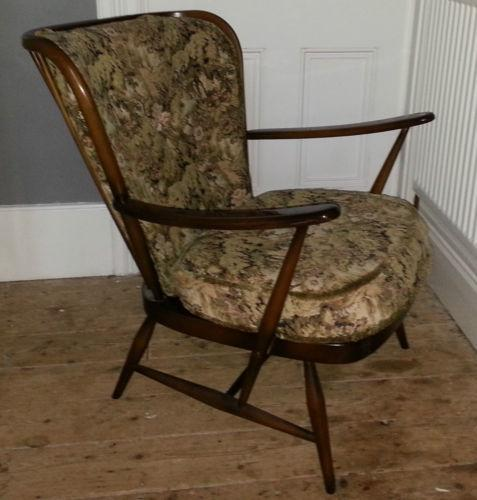chairs: (20, 8, 444, 496)
